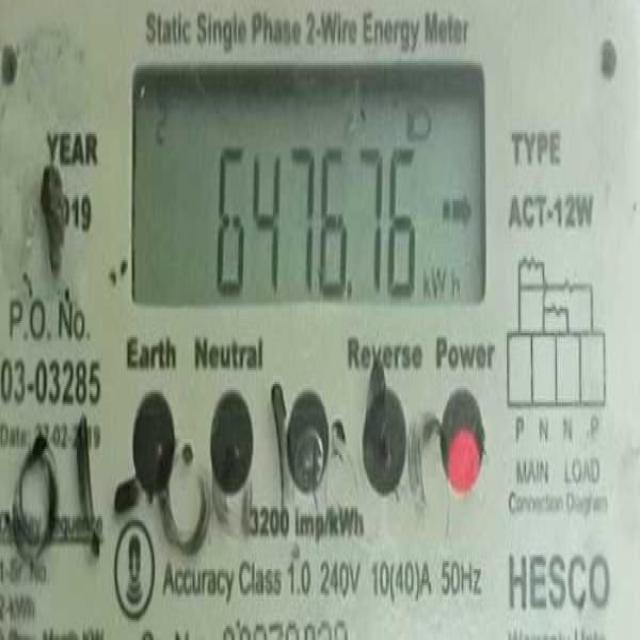4: (249, 144, 284, 301)
6: (205, 140, 248, 303), (386, 140, 421, 304), (315, 145, 349, 306)
7: (284, 146, 316, 300), (354, 139, 384, 301)
Digital meter: (133, 62, 487, 304)
point: (347, 277, 355, 300)
